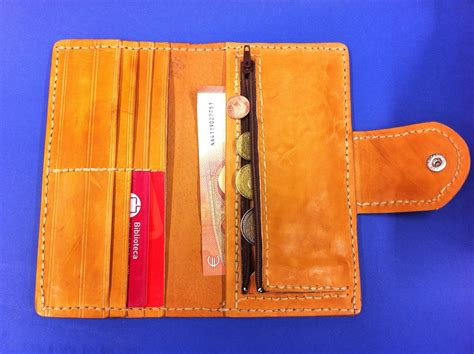cuero: (33, 37, 470, 318)
